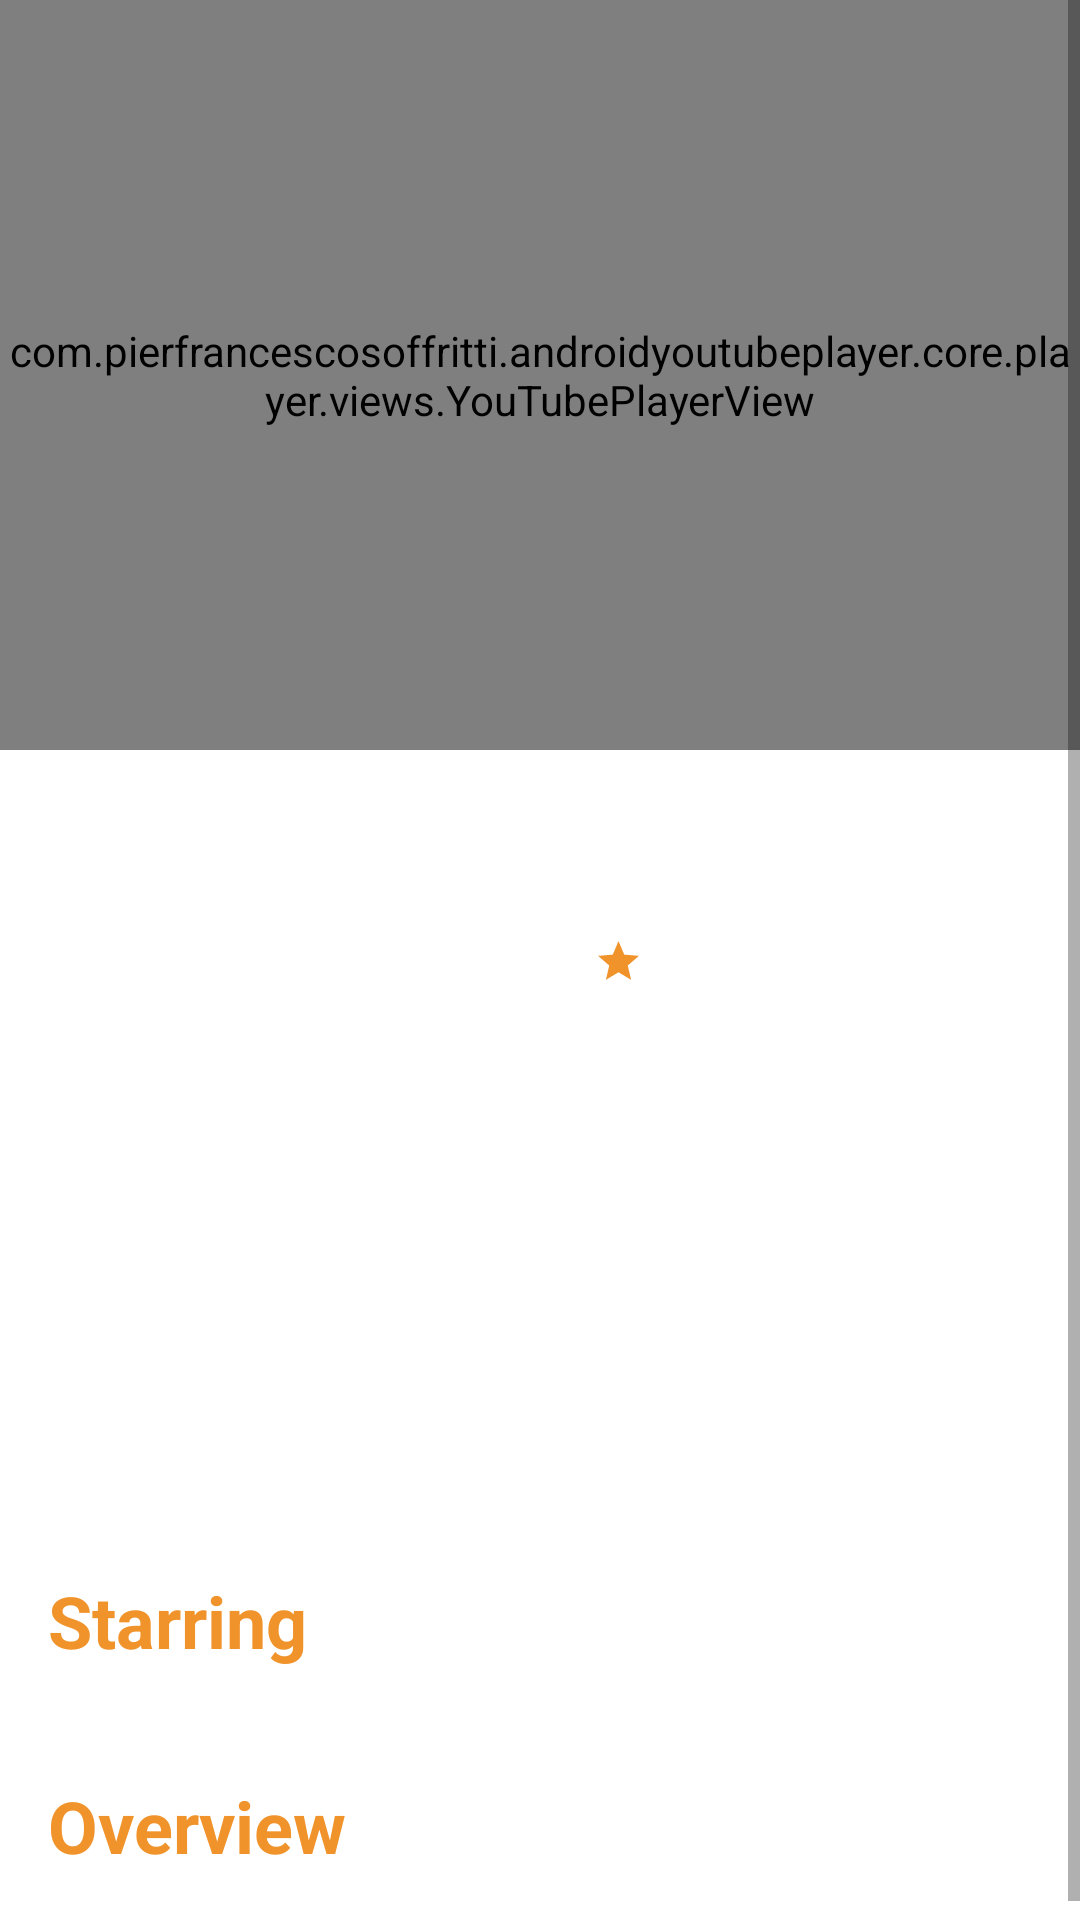

Screen size 1080w x 1920h. Icon name, then its center in pixels as point (x, y):
star: point (618, 960)
